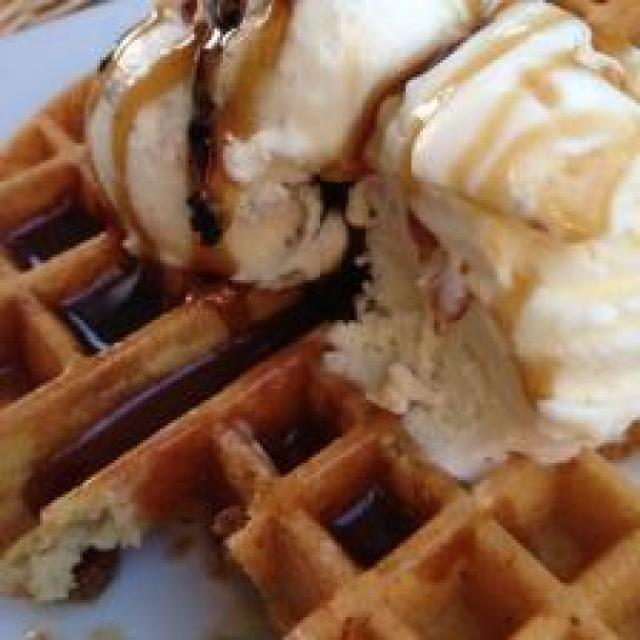Waffles: (0, 100, 640, 640)
